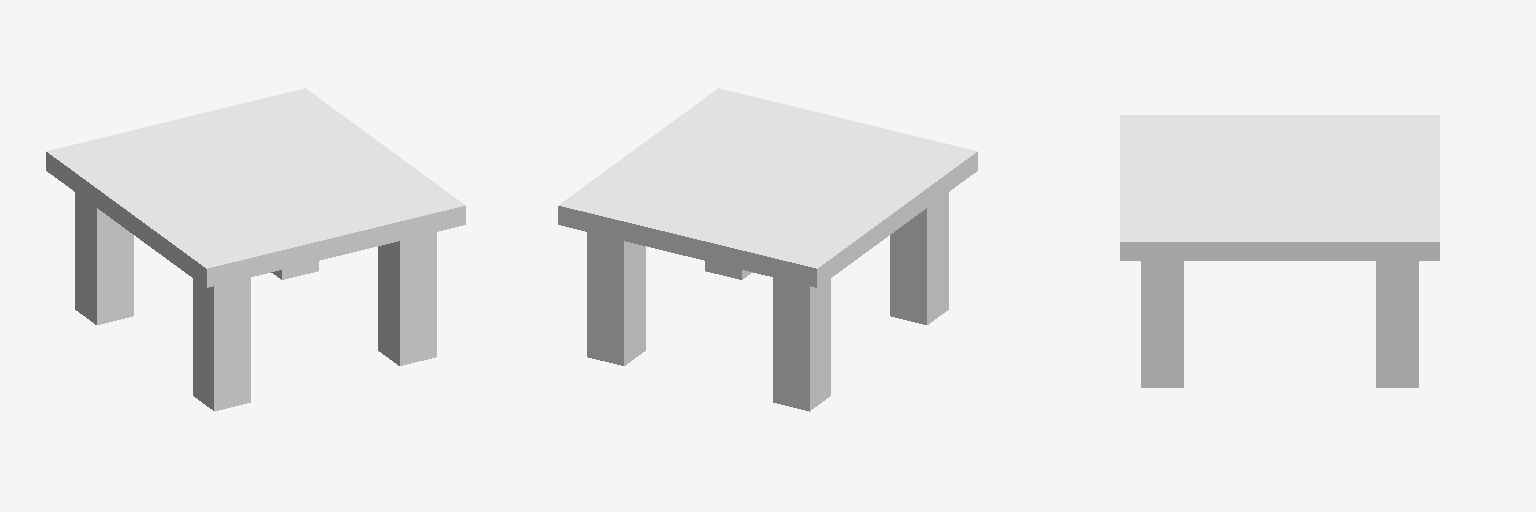
Rendered from stół.obj.
The picture shows the model from 3 angles: view 1: azimuth 30°, elevation 25°; view 2: azimuth 150°, elevation 25°; view 3: azimuth 270°, elevation 25°; orthographic projection.
Parts seen in each view (by area): view 1: object 1; view 2: object 1; view 3: object 1.
Boxes of the visible parts, box(x1,y1,x2,y2) form: object 1: box(46, 88, 465, 411); object 1: box(558, 88, 977, 411); object 1: box(1120, 115, 1439, 387).
Bounding box in the file's own units: 1.4 × 0.8 × 1.5.